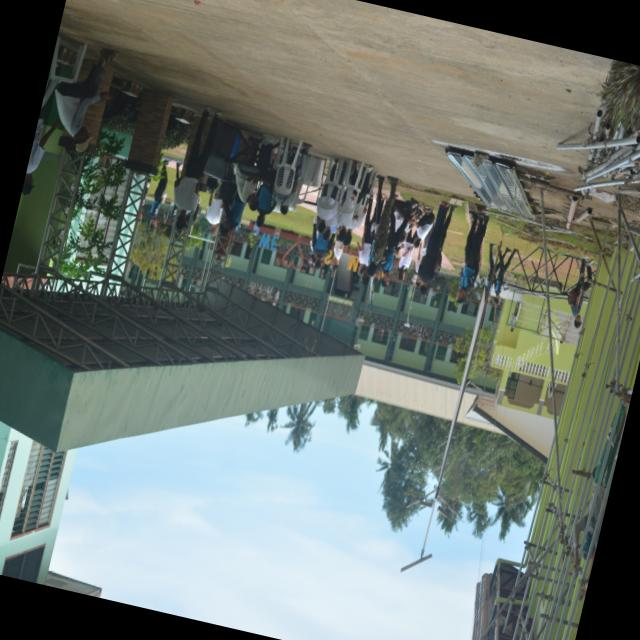person: (55, 48, 117, 151), (173, 106, 221, 228), (22, 106, 59, 195), (366, 175, 398, 275), (234, 133, 275, 209), (416, 201, 448, 294), (455, 212, 485, 302), (275, 142, 311, 213), (571, 256, 592, 327), (149, 159, 168, 228), (494, 247, 515, 304), (316, 183, 338, 231), (412, 203, 434, 247), (205, 180, 222, 235), (397, 230, 413, 279), (330, 240, 343, 269), (509, 301, 519, 331)
